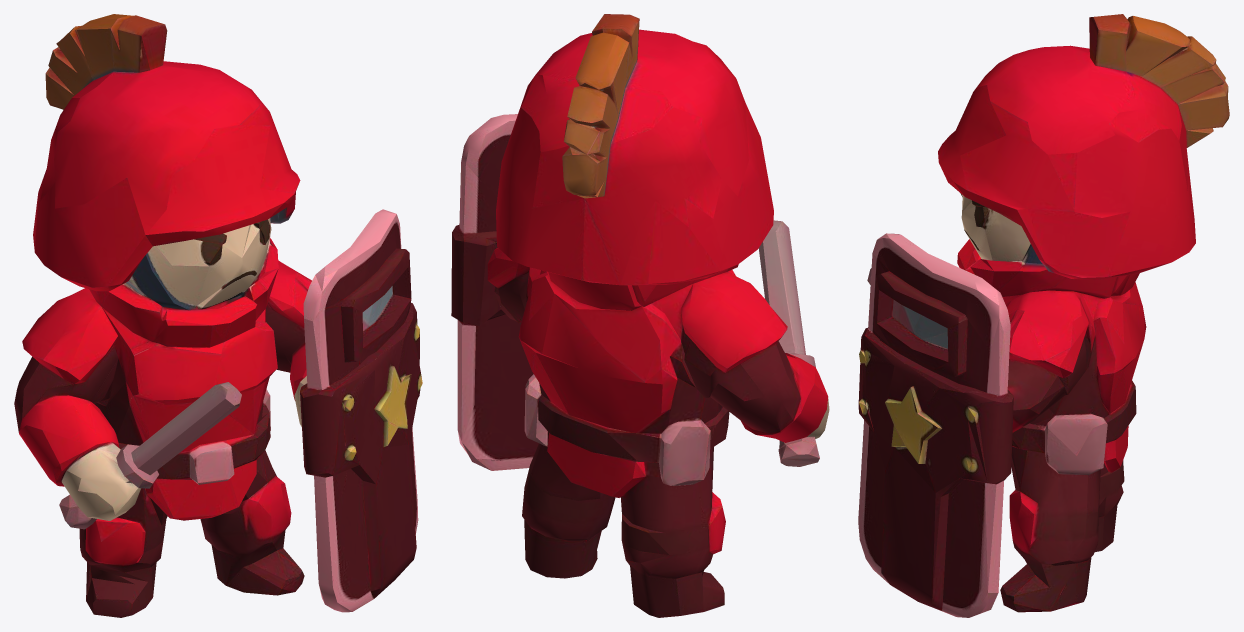
Rendered from glb-shield.glb.
3 views of the same model, side by side, from view 1: azimuth 30°, elevation 25°; view 2: azimuth 150°, elevation 25°; view 3: azimuth 270°, elevation 25° (orthographic). The views are drawn at different scales.
Size of the model in its own units: 1.3 by 1.9 by 1.18.
Materials: 1 (1 with a texture image).
